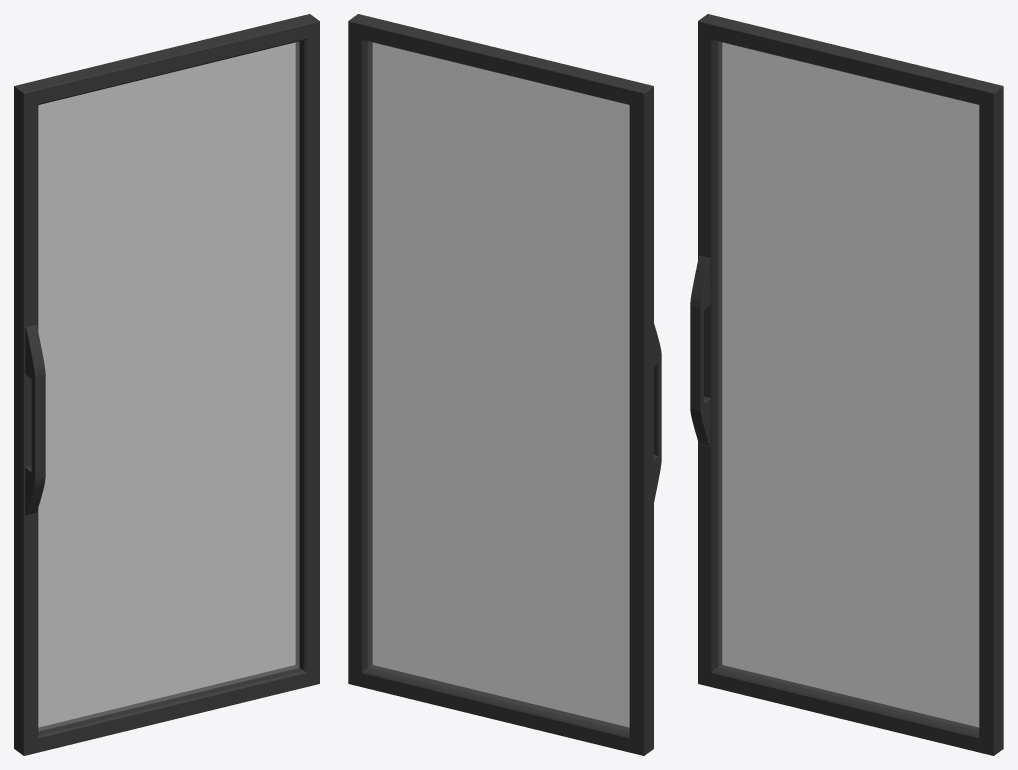
Rendered from SM_饮料柜门.FBX.
3 renders of one model, left to right at view 1: azimuth 30°, elevation 25°; view 2: azimuth 150°, elevation 25°; view 3: azimuth 330°, elevation 25°, orthographic.
Parts seen in each view (by area): view 1: SM_饮料柜门; view 2: SM_饮料柜门; view 3: SM_饮料柜门.
Part boxes in pixels (x1,y1,x2,y2): SM_饮料柜门: [14, 14, 319, 755]; SM_饮料柜门: [348, 14, 661, 755]; SM_饮料柜门: [690, 14, 1003, 755].
Size of the model in its own units: 0.6451 by 1.38 by 0.0731.
